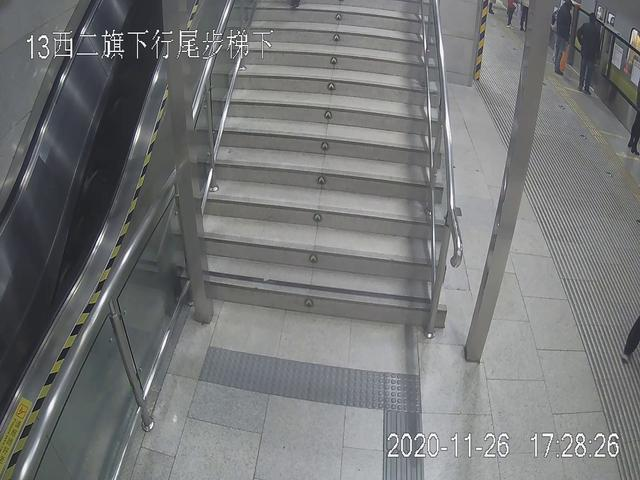person: (577, 11, 604, 93), (551, 1, 577, 75)
